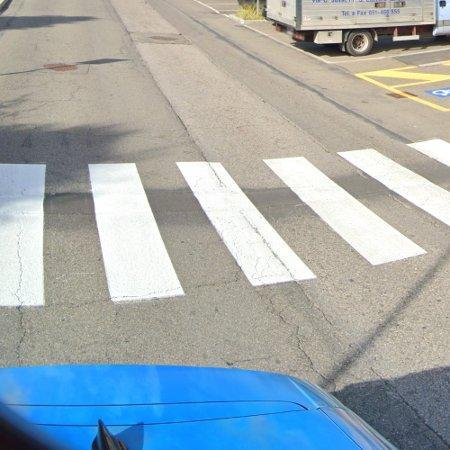crosswalk: (0, 134, 450, 307)
